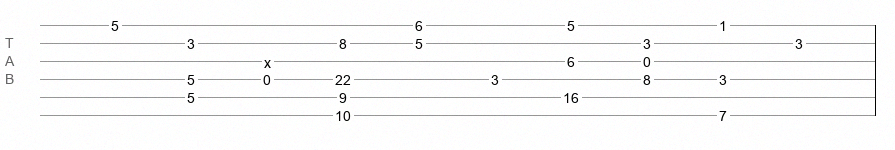0: (263, 72, 271, 82), (643, 54, 651, 64)
1: (719, 18, 727, 28)
10: (335, 108, 351, 118)
16: (563, 90, 579, 100)
22: (335, 72, 351, 82)
3: (187, 36, 195, 46), (491, 72, 499, 82), (643, 36, 651, 46), (719, 72, 727, 82), (795, 36, 803, 46)
5: (111, 18, 119, 28), (187, 90, 195, 100), (187, 72, 195, 82), (415, 36, 423, 46), (567, 18, 575, 28)
6: (415, 18, 423, 28), (567, 54, 575, 64)
7: (719, 108, 727, 118)
8: (339, 36, 347, 46), (643, 72, 651, 82)
9: (339, 90, 347, 100)
x: (264, 55, 271, 63)
